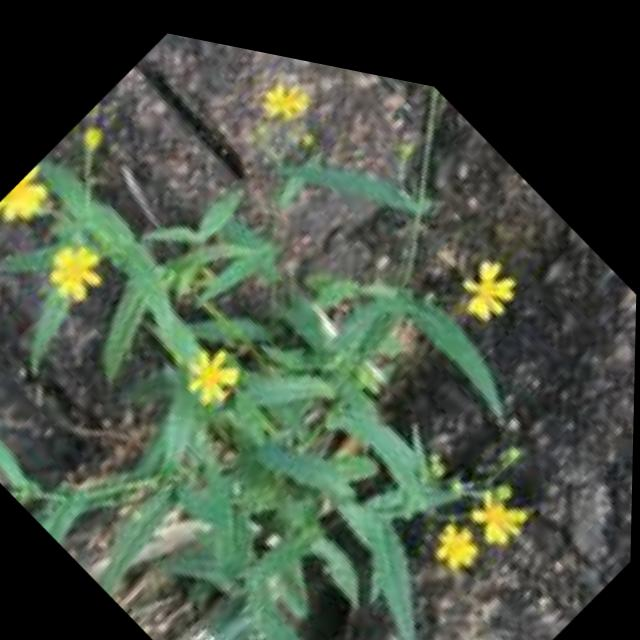Flower: (31, 223, 125, 330), (454, 447, 547, 553), (446, 221, 535, 327), (169, 322, 256, 422), (421, 484, 503, 578), (0, 161, 69, 256), (250, 44, 323, 128)
